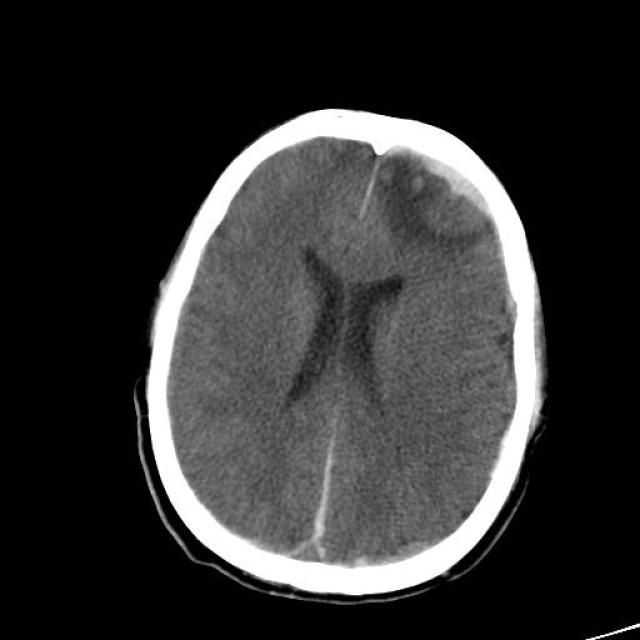Subdural: (405, 138, 507, 282), (282, 421, 368, 579)
